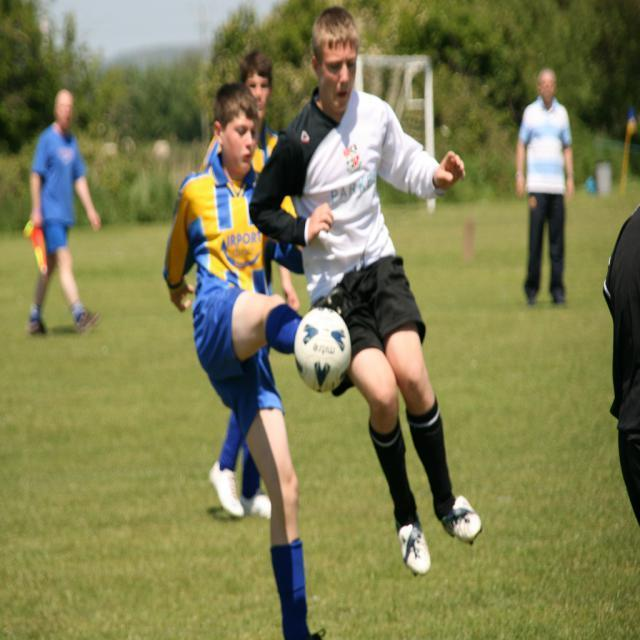ball: (294, 306, 353, 394)
